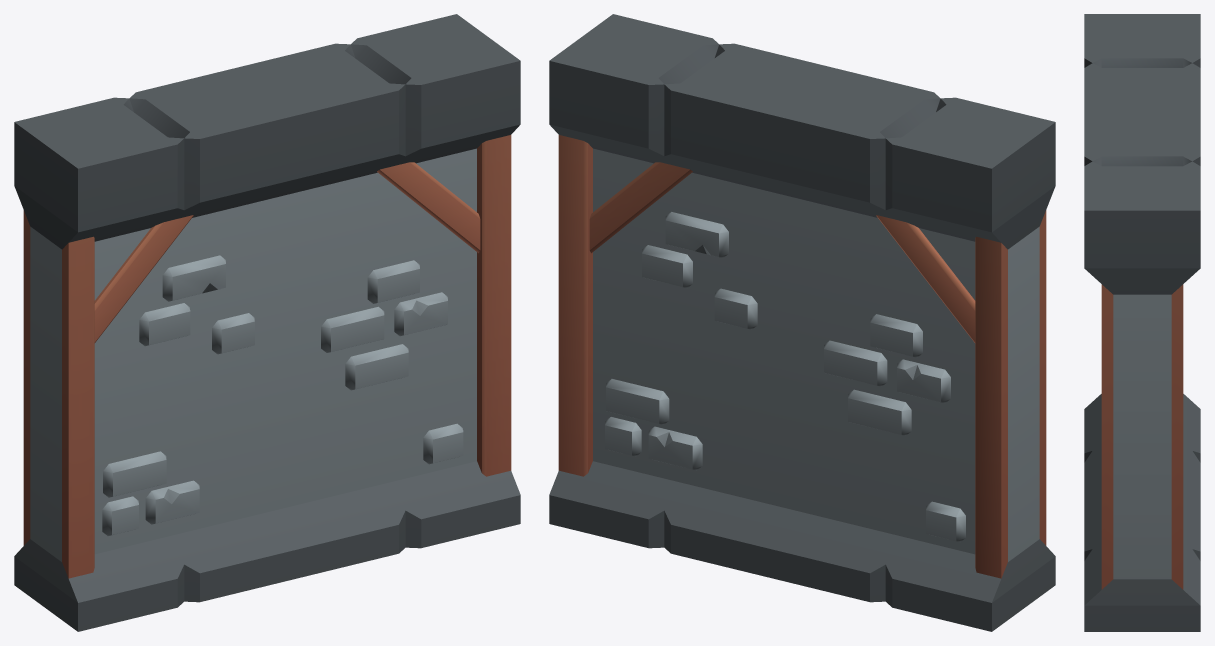
Rendered from wall_scaffold.obj.
3 renders of one model, left to right at view 1: azimuth 30°, elevation 25°; view 2: azimuth 150°, elevation 25°; view 3: azimuth 270°, elevation 25°, orthographic. The views are drawn at different scales.
Parts seen in each view (by area): view 1: wall_scaffold; view 2: wall_scaffold; view 3: wall_scaffold.
Part boxes in pixels (x1,y1,x2,y2): wall_scaffold: (14, 14, 520, 631); wall_scaffold: (549, 14, 1055, 631); wall_scaffold: (1084, 14, 1200, 631).
Size of the model in its own units: 4 by 4 by 1.
1 material, 1 textured.
